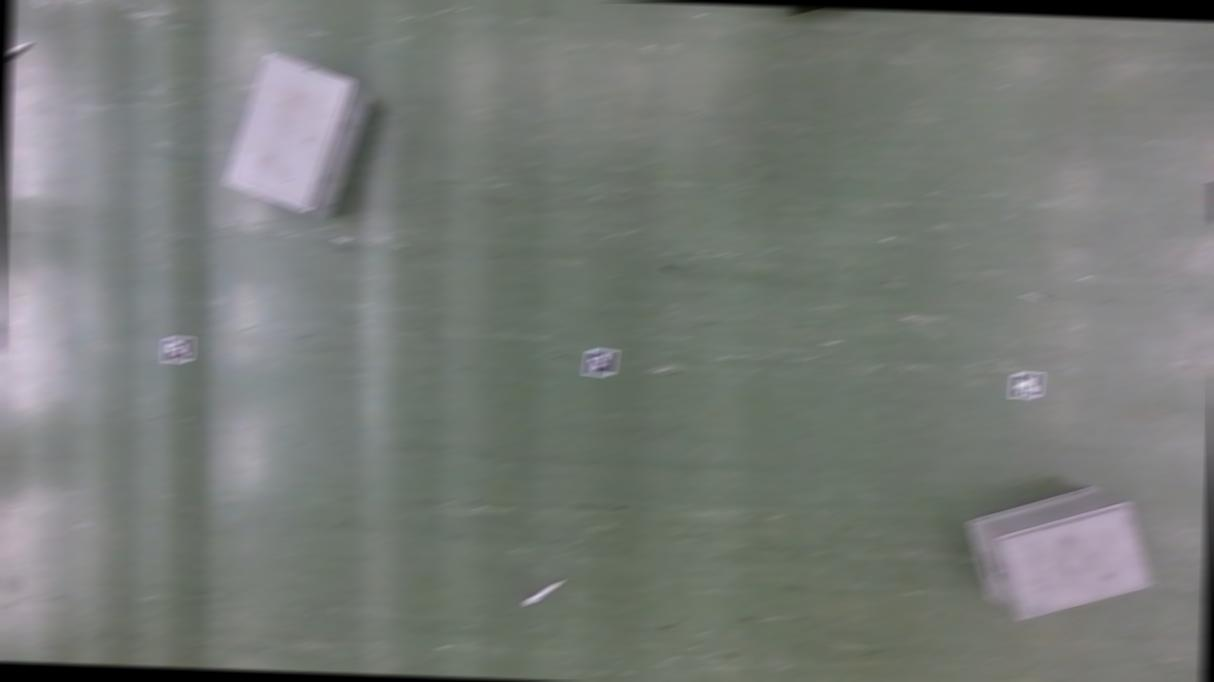probes: (526, 578, 560, 604), (7, 42, 30, 70), (1208, 177, 1214, 220)
rako: (964, 478, 1156, 622), (223, 46, 376, 214)
